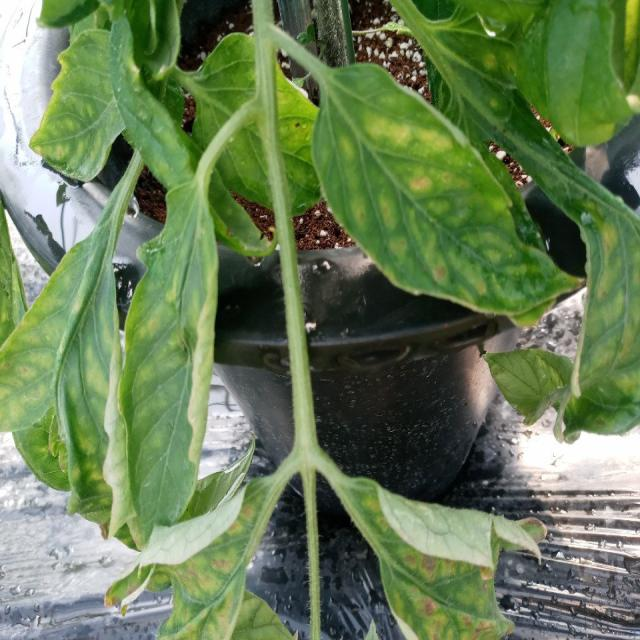Healthy Leaf: (315, 63, 584, 313), (0, 233, 124, 540), (119, 182, 219, 547), (107, 473, 291, 640), (359, 480, 547, 640), (190, 33, 321, 215), (572, 162, 640, 436), (28, 30, 126, 184)
